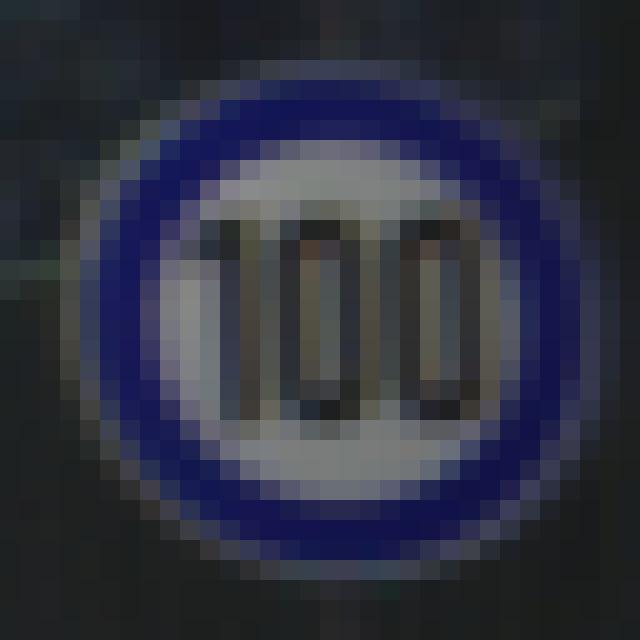SPEED LIMIT 100: (56, 67, 586, 578)
